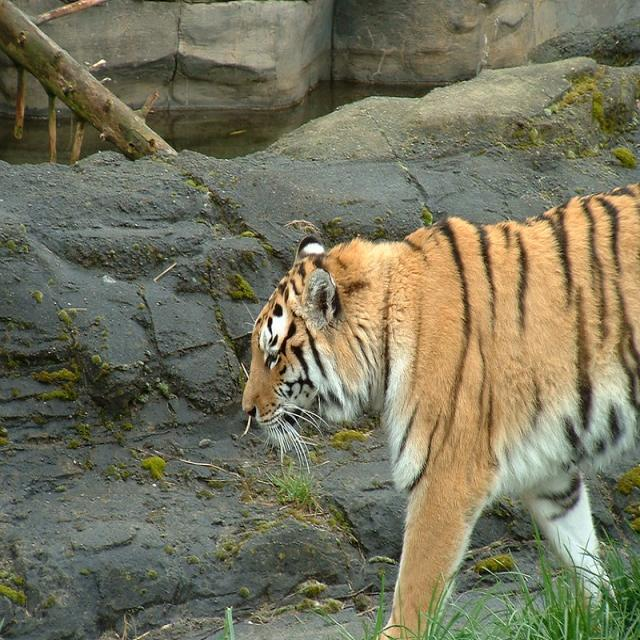Tiger: (237, 177, 639, 636)
